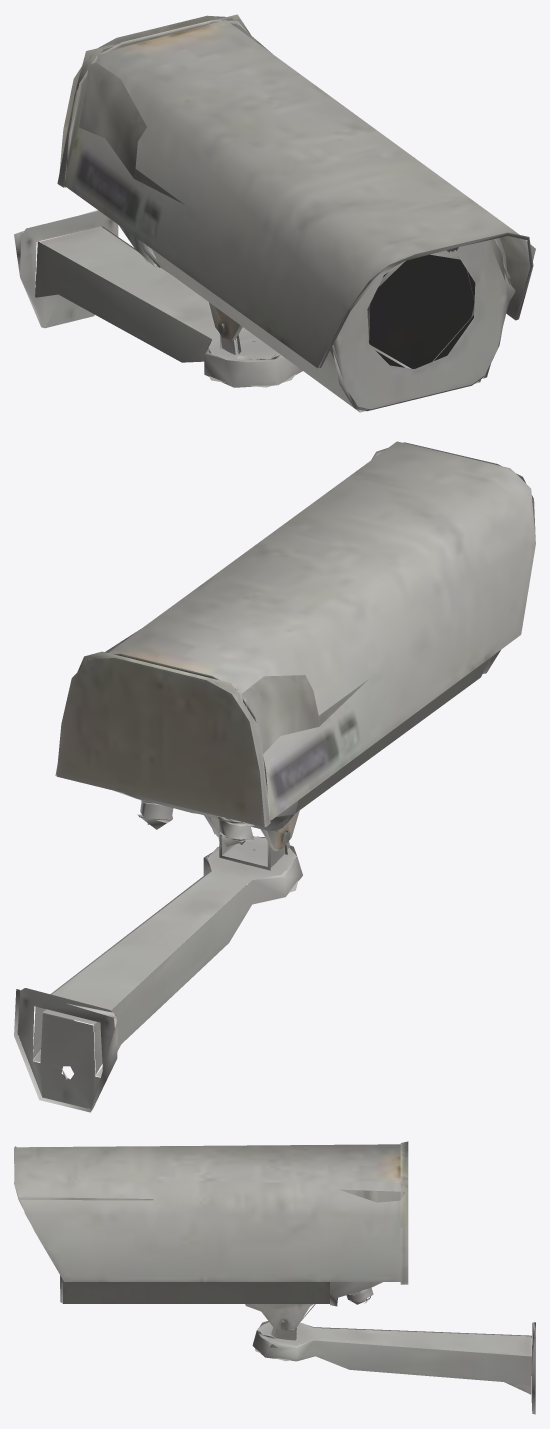
File: security_camera_01.glb
The picture shows the model from 3 angles, top to bottom: view 1: azimuth 30°, elevation 25°; view 2: azimuth 150°, elevation 25°; view 3: azimuth 270°, elevation 25°; orthographic projection. The views are drawn at different scales.
Visible parts, largest first — view 1: security_camera_01; view 2: security_camera_01; view 3: security_camera_01.
Boxes of the visible parts, x1,y1,x2,y2 form: security_camera_01: (14,14,535,412); security_camera_01: (14,441,535,1112); security_camera_01: (14,1141,535,1414).
Size of the model in its own units: 0.1715 by 0.2857 by 0.5538.
Materials: 2 (2 with a texture image).
